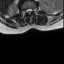CCS_normal: (28, 7, 30, 16)
LFS_normal: (32, 7, 34, 13)
LLS_normal: (30, 7, 32, 14)
RFS_normal: (24, 8, 26, 15)
RLS_normal: (26, 7, 28, 14)
